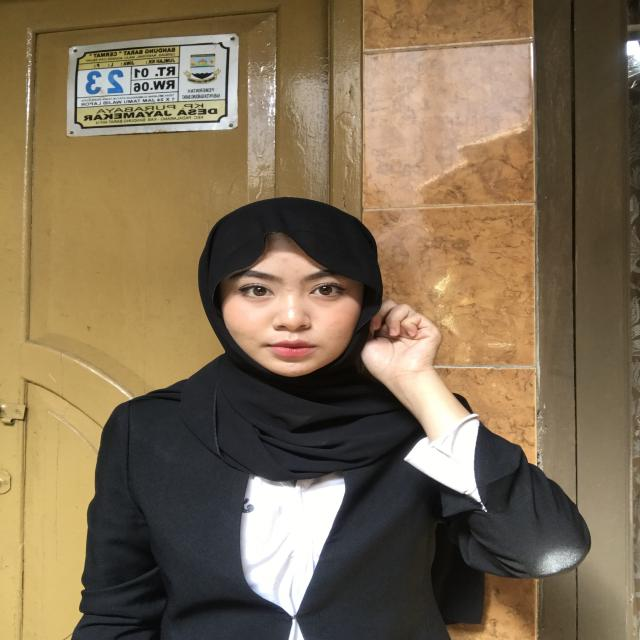ibu: (339, 294, 480, 417)
